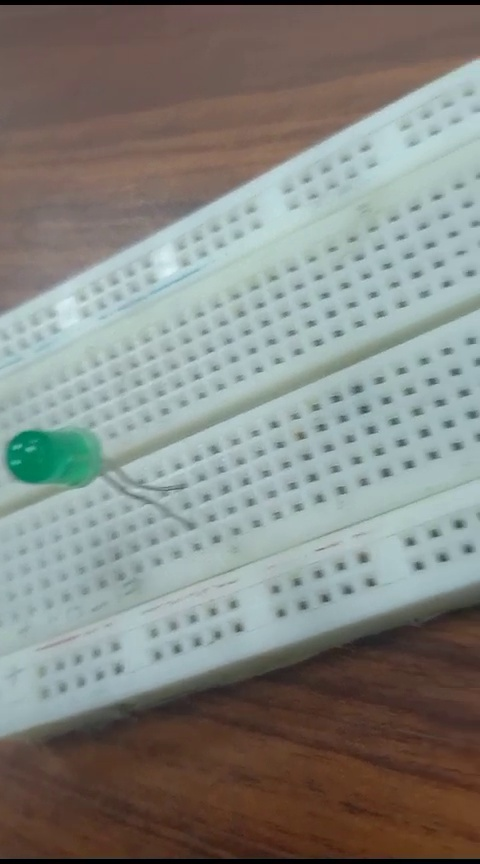LED: (4, 417, 210, 548)
